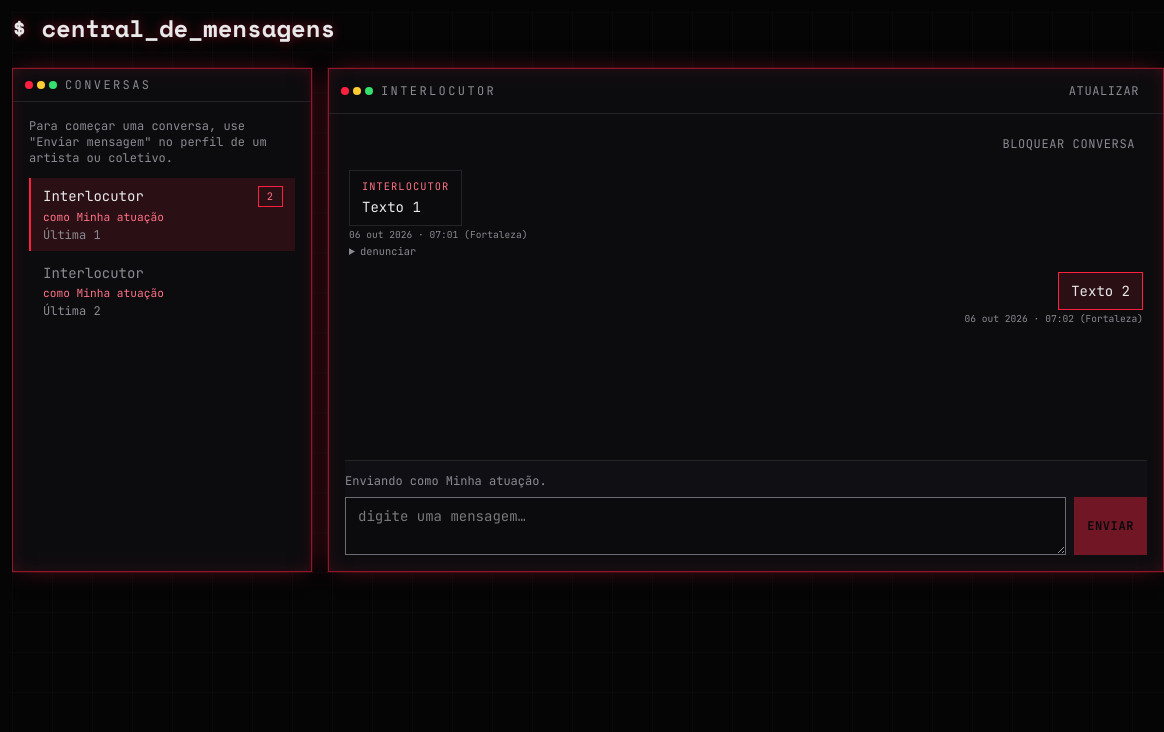
Test: Chat › recusa do banco: "mensagem não enviada" com o motivo embaixo, sem "tentar de novo", e o campo continua livre
This screenshot has width=1164, height=732.
In the text box named "Mensagem para Interlocutor": (706, 526) [345, 497, 1066, 555], type "Não some"
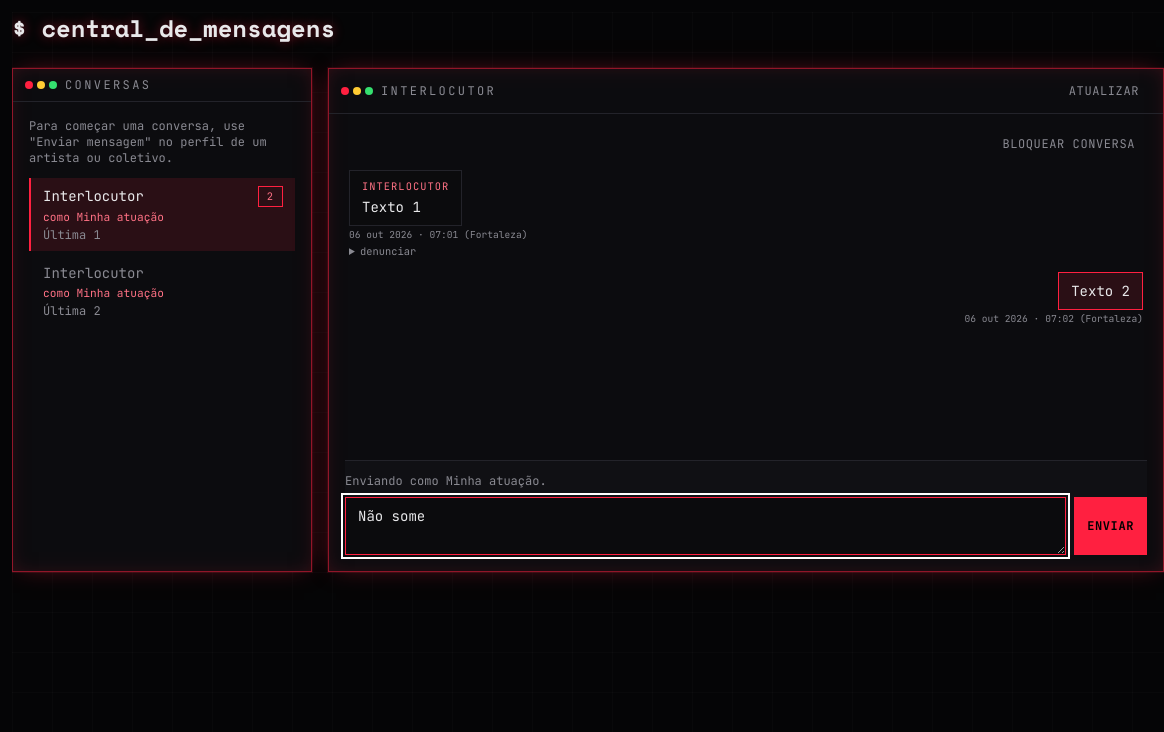
Click the button "enviar": click(1111, 526) [1074, 497, 1147, 555]
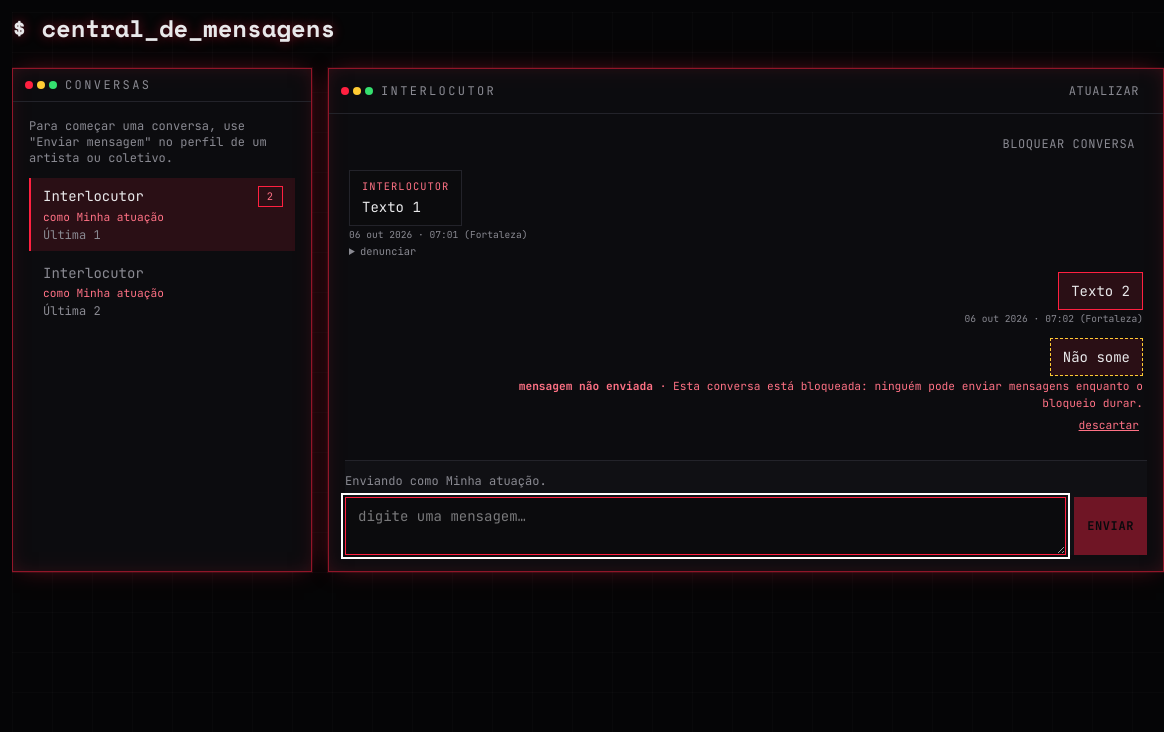
Result: the message shows "mensagem não enviada" at [519, 379, 653, 393]
Result: the message shows "Esta conversa está bloqueada" at [673, 379, 1143, 410]
Result: the text "Não some" is shown at [1063, 347, 1130, 367]
Click the button named "descartar a mensagem não enviada \"Não some\"": click(1109, 426) [1075, 414, 1143, 438]
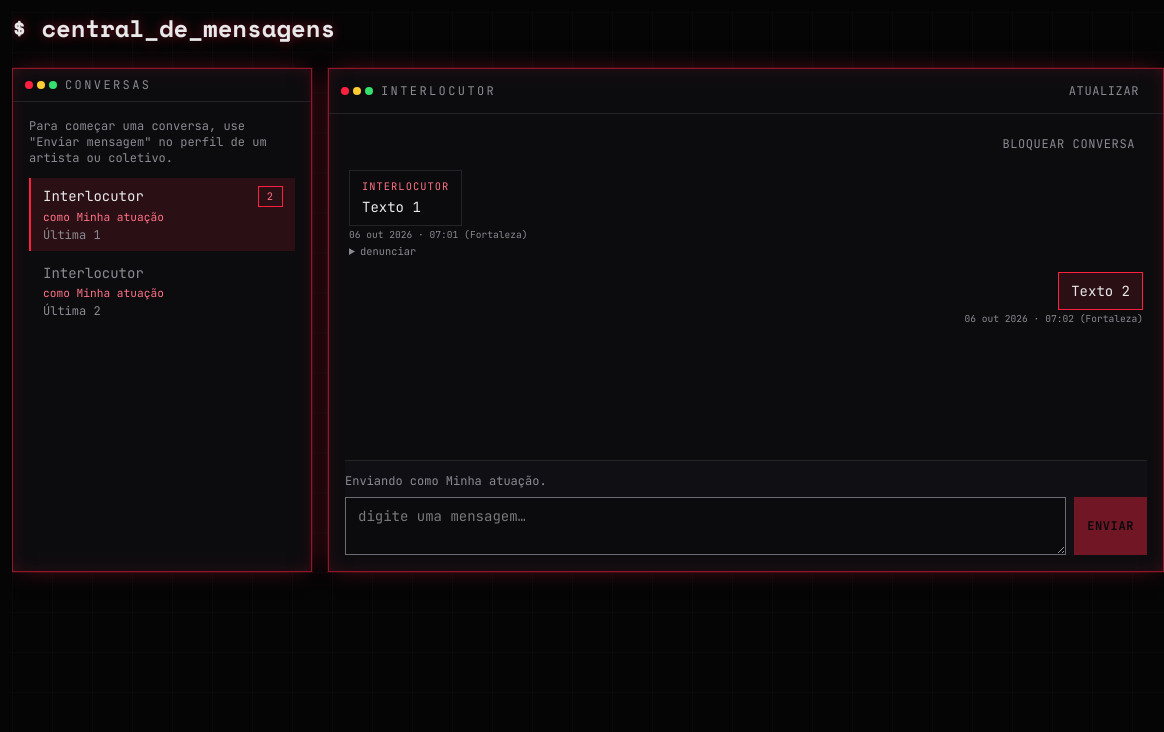
Result: the text "Não some" is gone
Result: the message is gone
